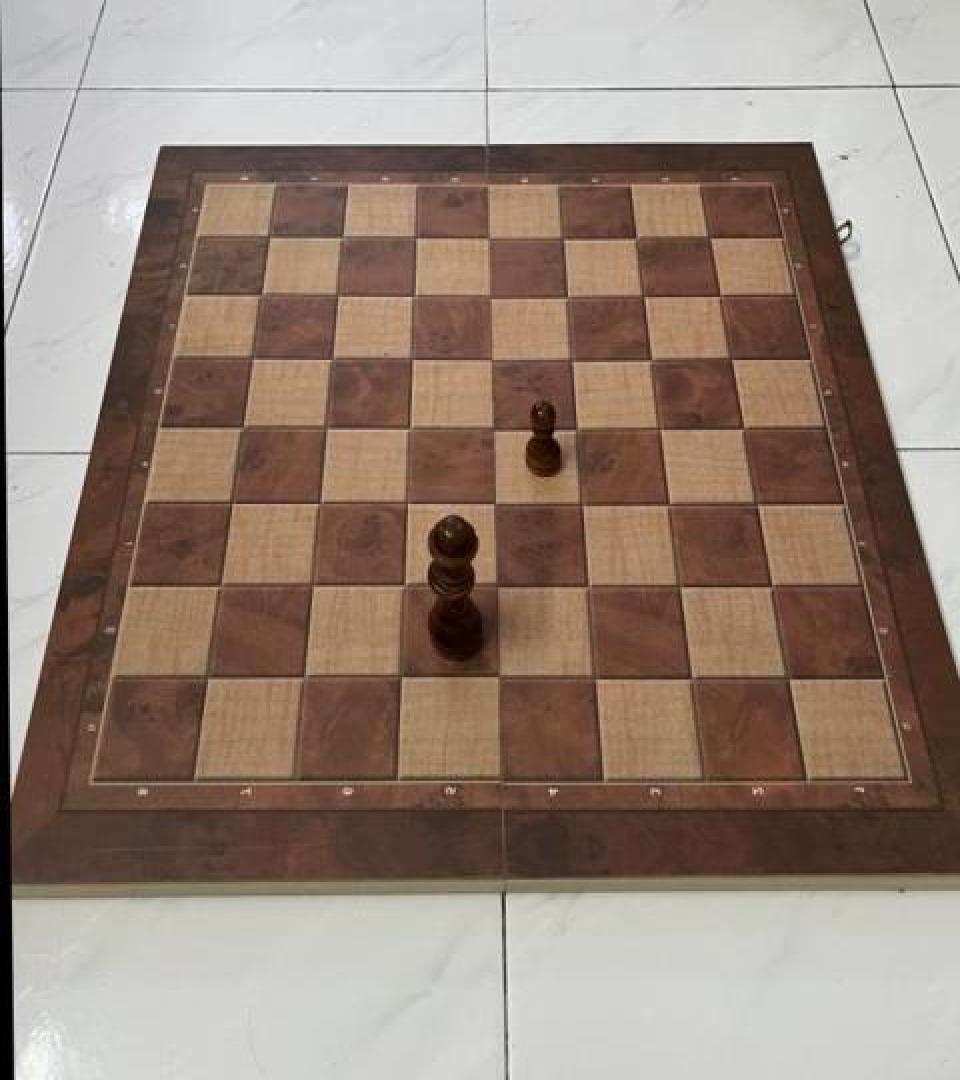xcorner: (251, 219, 285, 258), (739, 481, 773, 520), (325, 218, 359, 256), (399, 218, 433, 256), (472, 217, 506, 255), (546, 217, 580, 255), (620, 216, 654, 254), (694, 216, 728, 254), (243, 277, 277, 315), (320, 277, 354, 315), (396, 277, 430, 315), (473, 276, 507, 314), (550, 276, 584, 314), (627, 274, 661, 312), (704, 274, 738, 312), (234, 341, 268, 379), (314, 340, 348, 378), (394, 340, 428, 378), (474, 339, 508, 377), (554, 339, 588, 377), (634, 339, 668, 377), (715, 338, 749, 376), (225, 410, 259, 448), (308, 408, 342, 446), (392, 408, 426, 446), (475, 408, 509, 446), (559, 408, 593, 446), (643, 408, 677, 446), (726, 406, 760, 444), (214, 484, 248, 522), (301, 484, 335, 522), (389, 484, 423, 522), (476, 483, 510, 521), (564, 483, 598, 521), (651, 483, 685, 521), (203, 567, 237, 605), (294, 566, 328, 604), (386, 566, 420, 604), (477, 566, 511, 604), (569, 565, 603, 603), (661, 565, 695, 603), (753, 565, 787, 603), (190, 657, 224, 695), (286, 657, 320, 695), (382, 656, 416, 694), (479, 656, 513, 694), (575, 656, 609, 694), (672, 656, 706, 694), (768, 655, 802, 693)
